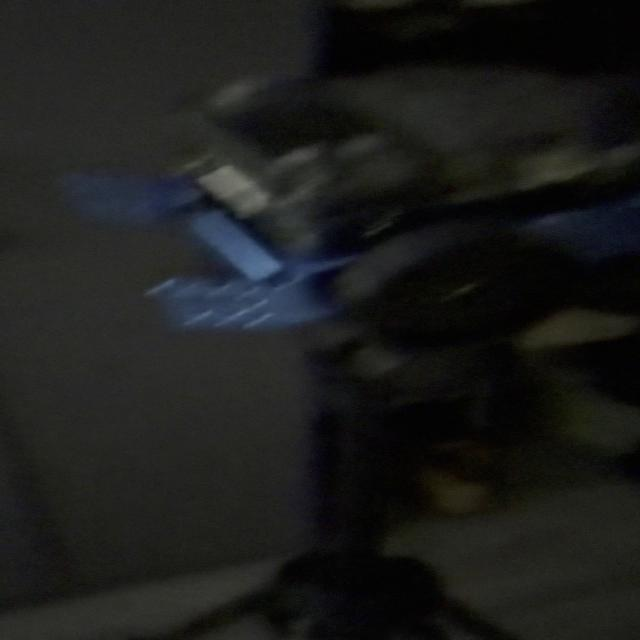mbot-detection: (26, 50, 640, 366)
